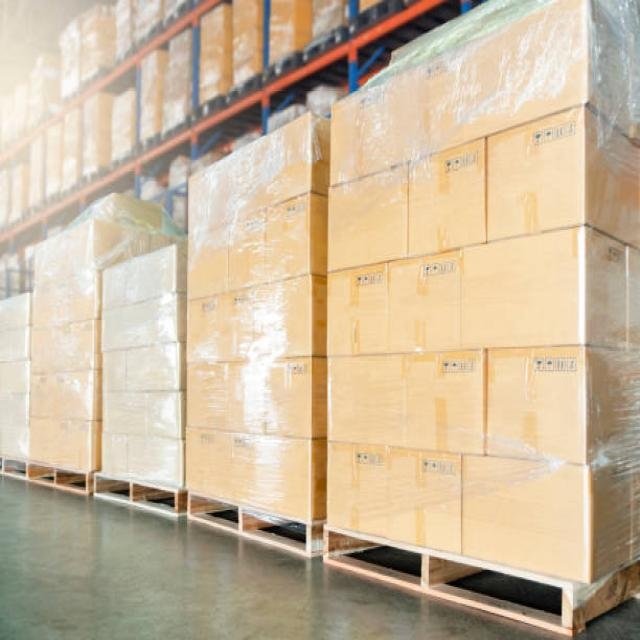Wooden-Pallets: (317, 517, 640, 640), (184, 483, 313, 579), (81, 463, 188, 526)
